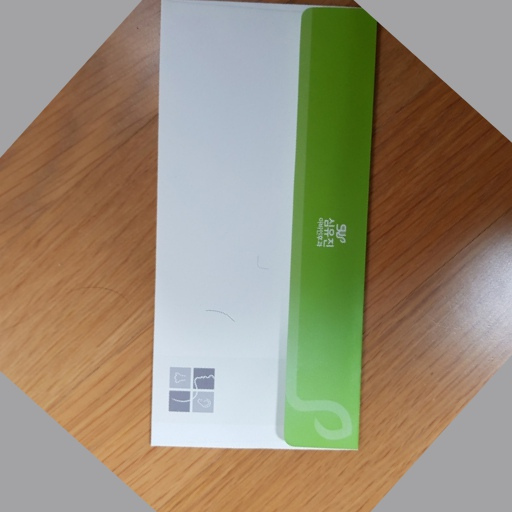Paper_2: (151, 1, 381, 464)
